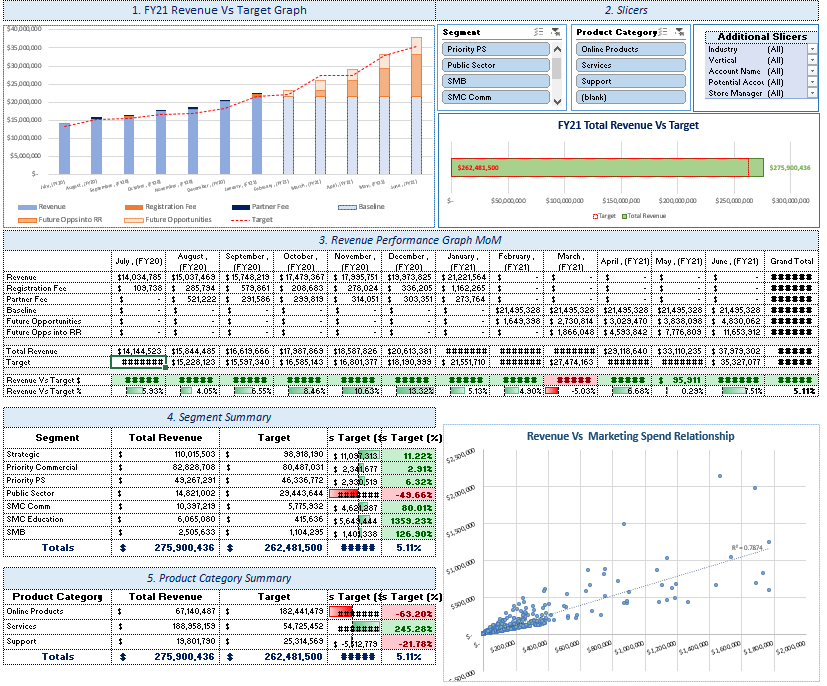

The dashboard page shown, as its layout file describes it:
{"tool":"powerbi","page":{"name":"Page 1","canvas":[1460,1250],"ordinal":0},"visuals":[{"type":"pivotTable","fields":{"Values":["_Measures.Revenue","_Measures.RegFee","_Measures.Partner Fee","_Measures.Baseline","_Measures.Future Opportunities","_Measures.Future Opportunities RR","_Measures.Empty","_Measures.Total Revenue","Sum(data.Target)","_Measures.empty 2","_Measures.Revenue vs Target","_Measures.Revenue vs Target %"],"Columns":["data.Fiscal_Month"]},"box":[4.4,603.3,1455.6,285.6],"z":0},{"type":"lineStackedColumnComboChart","fields":{"Category":["data.Fiscal_Month"],"Y":["_Measures.Revenue","_Measures.Registration Fee","_Measures.Partner Fee","_Measures.Baseline","_Measures.Future Opportunities RR","_Measures.Future Opportunities","_Measures.Total Revenue"],"Y2":["Sum(data.Target)"]},"box":[0,12.5,785.5,565.8],"z":1000},{"type":"slicer","fields":{"Values":["data.Segment"]},"box":[771.5,12.5,261.8,370.9],"z":2000},{"type":"slicer","fields":{"Values":["data.Industry"]},"box":[1215.7,23.4,204.2,62.3],"z":3000},{"type":"slicer","fields":{"Values":["data.Vertical"]},"box":[1215.7,85.7,204.2,63.9],"z":4000},{"type":"slicer","fields":{"Values":["data.Account_Name"]},"box":[1215.7,149.6,204.2,62.3],"z":5000},{"type":"slicer","fields":{"Values":["data.Potential_Account"]},"box":[1215.7,266.5,204.2,70.1],"z":6000},{"type":"slicer","fields":{"Values":["data.Store_Manager_Alias"]},"box":[1215.7,205.7,204.2,60.8],"z":7000},{"type":"clusteredBarChart","title":"Total Revenue VS Total Target","fields":{"Y":["Sum(data.Target)","Sum(data.Revenue)"]},"box":[802.7,383.4,617.2,194.8],"z":8000},{"type":"slicer","fields":{"Values":["data.Product_Category"]},"box":[1033.4,54.6,174.6,222.9],"z":9000},{"type":"pivotTable","fields":{"Rows":["data.Segment"],"Values":["_Measures.Total Revenue","Sum(data.Target)","_Measures.Revenue vs Target","_Measures.Revenue vs Target %"]},"box":[4.4,898.9,478.9,203.3],"z":10000},{"type":"pivotTable","fields":{"Rows":["data.Product_Category"],"Values":["_Measures.Total Revenue","Sum(data.Target)","_Measures.Revenue vs Target","_Measures.Revenue vs Target %"]},"box":[4.4,1102.2,568.9,124.4],"z":11000},{"type":"scatterChart","fields":{"Y":["Sum(data.Marketing Spend)"],"X":["Sum(data.Revenue)"],"Category":["data.Revenue"]},"box":[483.3,898.9,976.7,327.8],"z":12000}]}

Visuals, with their boxes on the page's 1460x1250 design canvas (x1, y1, x2, y2). These are canvas units, not pixel positions in the 827x686 screenshot, which may show the page scaled, cropped or inside an application window:
pivotTable - _Measures.Revenue x _Measures.RegFee: detection(4, 603, 1460, 889)
lineStackedColumnComboChart - data.Fiscal_Month x _Measures.Revenue: detection(0, 12, 786, 578)
slicer - data.Segment: detection(772, 12, 1033, 383)
slicer - data.Industry: detection(1216, 23, 1420, 86)
slicer - data.Vertical: detection(1216, 86, 1420, 150)
slicer - data.Account_Name: detection(1216, 150, 1420, 212)
slicer - data.Potential_Account: detection(1216, 266, 1420, 337)
slicer - data.Store_Manager_Alias: detection(1216, 206, 1420, 266)
"Total Revenue VS Total Target" clusteredBarChart: detection(803, 383, 1420, 578)
slicer - data.Product_Category: detection(1033, 55, 1208, 278)
pivotTable - data.Segment x _Measures.Total Revenue: detection(4, 899, 483, 1102)
pivotTable - data.Product_Category x _Measures.Total Revenue: detection(4, 1102, 573, 1227)
scatterChart - Sum(data.Marketing Spend) x Sum(data.Revenue): detection(483, 899, 1460, 1227)
